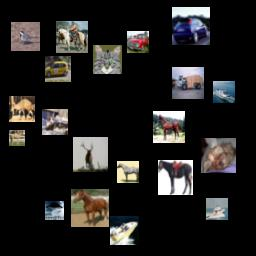airplane: (45, 201, 64, 220)
automobile: (172, 7, 210, 45), (45, 56, 71, 82), (127, 31, 149, 53)
bird: (11, 22, 40, 51)
cat: (93, 45, 122, 74), (42, 109, 68, 135)
deer: (73, 137, 108, 172), (9, 96, 35, 122)
dog: (201, 138, 236, 173)
ship: (110, 216, 139, 245), (213, 81, 235, 103), (206, 198, 228, 220)
truck: (172, 67, 204, 99)
